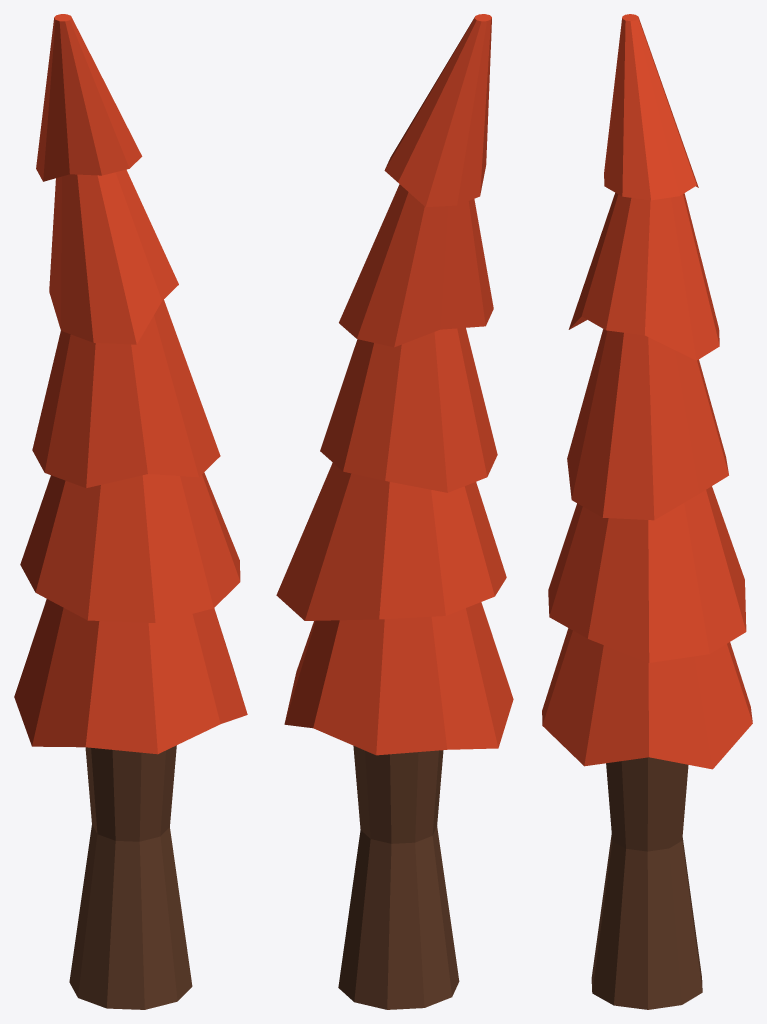
3 views of the same model, side by side, from view 1: azimuth 30°, elevation 25°; view 2: azimuth 150°, elevation 25°; view 3: azimuth 270°, elevation 25° (orthographic). The views are drawn at different scales.
Parts seen in each view (by area): view 1: t4-orange; view 2: t4-orange; view 3: t4-orange.
Boxes of the visible parts, x1,y1,x2,y2 form: t4-orange: (14, 14, 247, 1009); t4-orange: (276, 14, 513, 1009); t4-orange: (542, 14, 752, 1009).
Size of the model in its own units: 224 by 1009 by 207.
